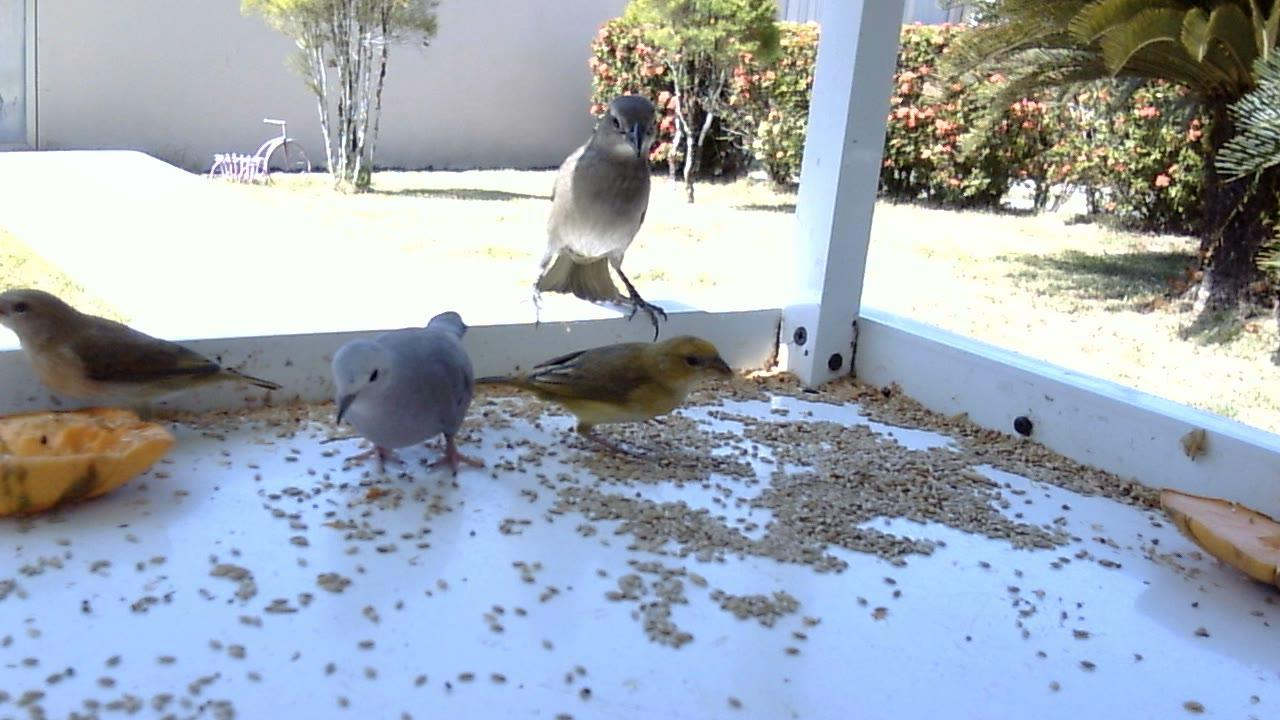canario_do_amazonas: (1, 287, 287, 410), (475, 334, 735, 458)
chupim: (513, 94, 674, 343)
rolinha: (331, 310, 488, 481)
